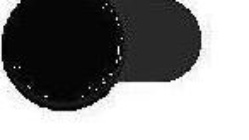Switch: (1, 1, 248, 139)
